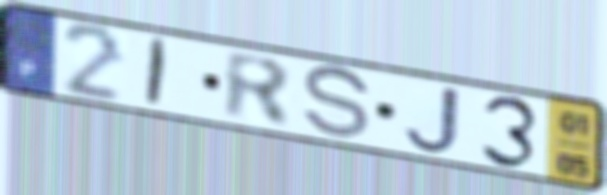2: (58, 20, 132, 106)
3: (472, 94, 545, 172)
I: (141, 35, 173, 111)
J: (400, 83, 465, 156)
R: (221, 47, 296, 132)
S: (299, 64, 375, 143)
